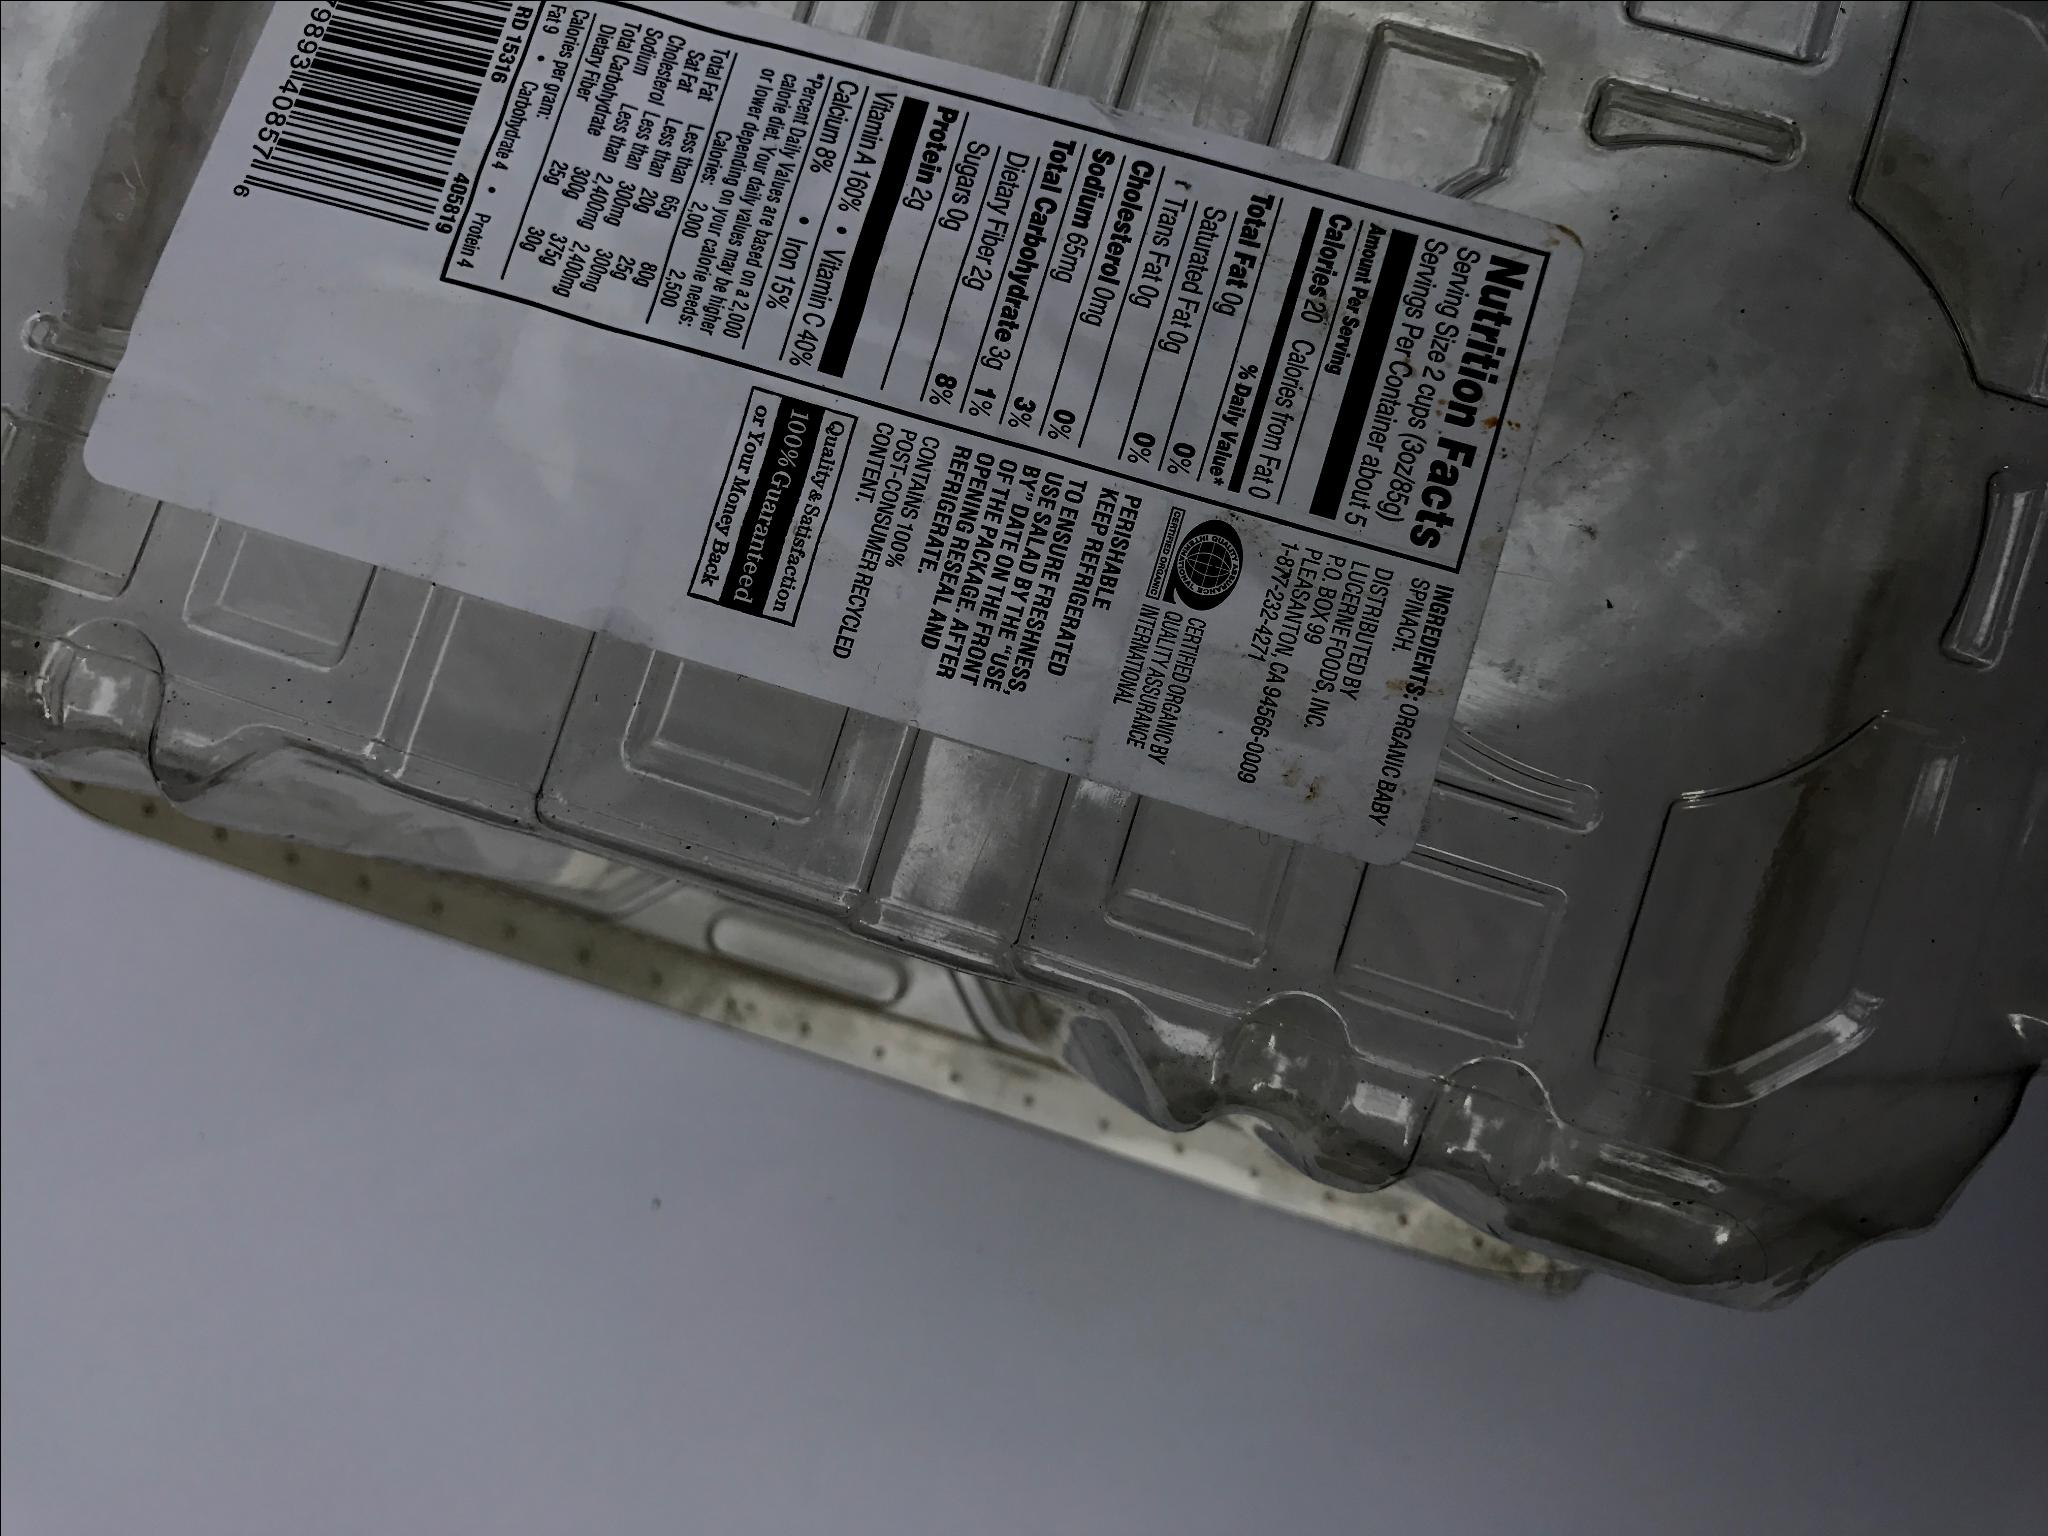Plastic: (0, 2, 2046, 1326)
